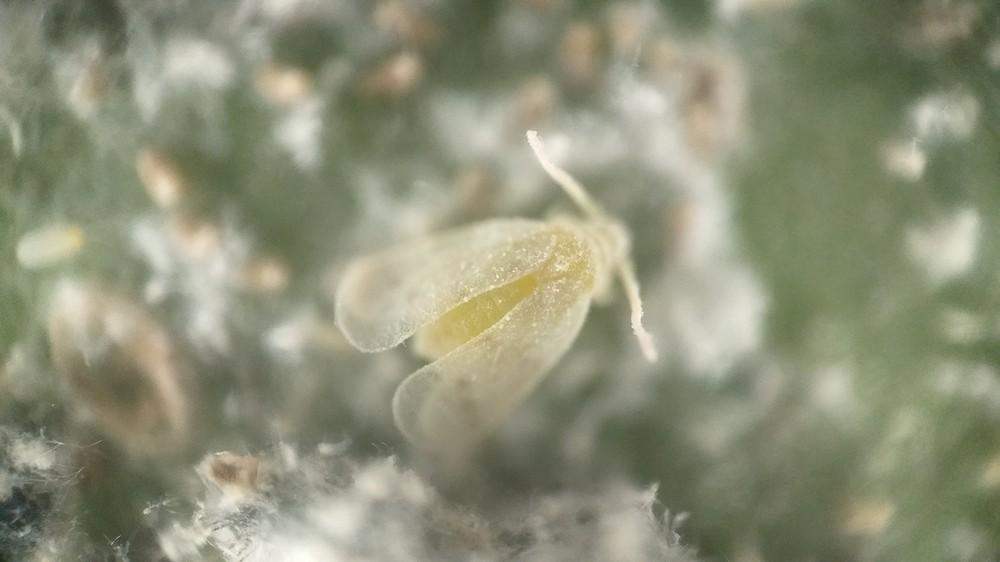Mosca Blanca: (305, 124, 677, 468)
